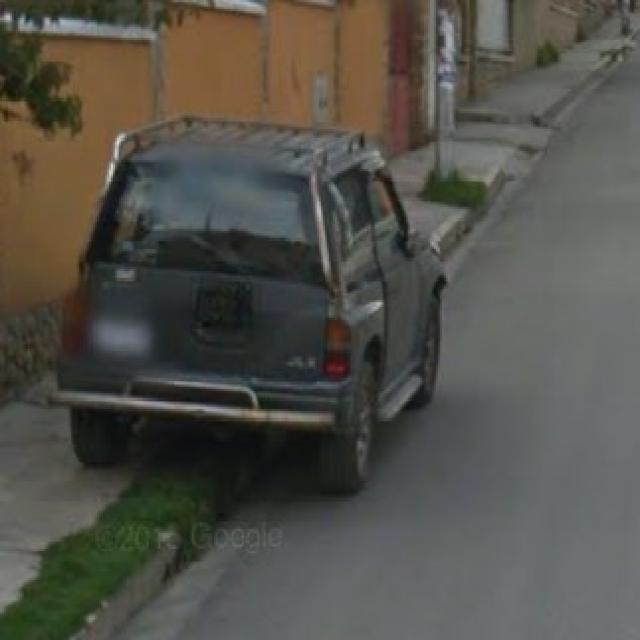cars: (65, 125, 445, 487)
